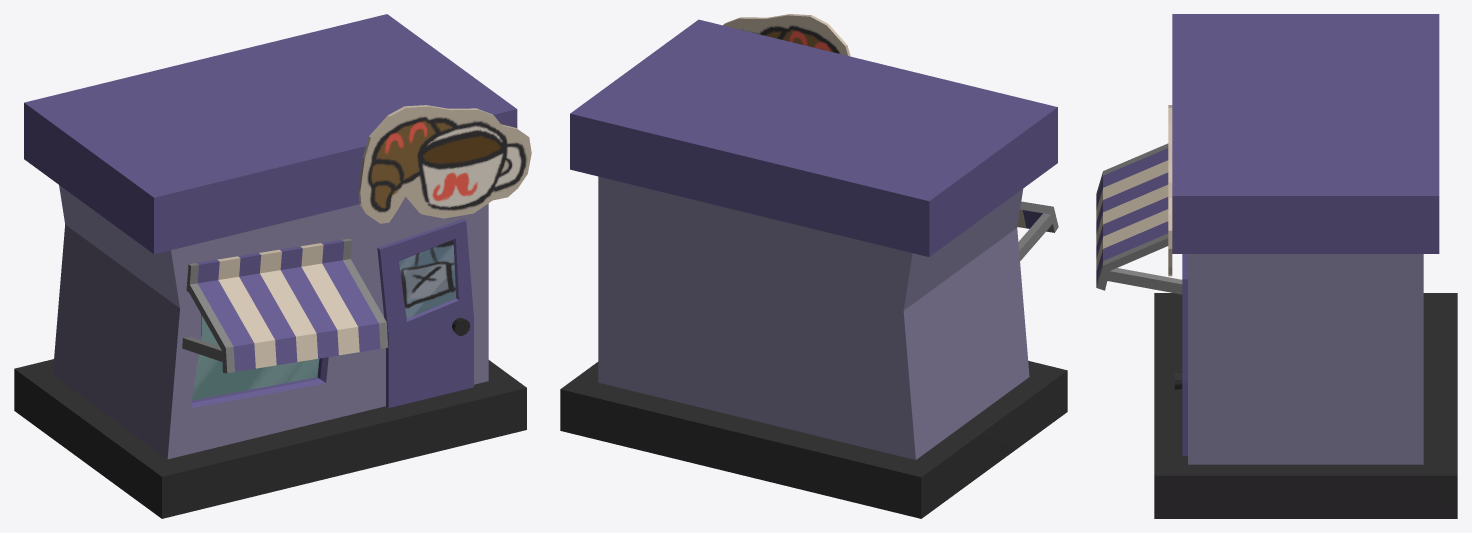
File: SM_Bakery.fbx
3 renders of one model, left to right at view 1: azimuth 30°, elevation 25°; view 2: azimuth 150°, elevation 25°; view 3: azimuth 270°, elevation 25°, orthographic. The views are drawn at different scales.
Visible parts, largest first — view 1: bakery.001, Cube; view 2: bakery.001, Cube; view 3: bakery.001, Cube.
Part boxes in pixels (x1,y1,x2,y2): bakery.001: (24, 14, 531, 459); Cube: (14, 359, 526, 518); bakery.001: (570, 14, 1058, 459); Cube: (560, 361, 1067, 518); bakery.001: (1096, 14, 1439, 464); Cube: (1154, 293, 1457, 518).
Size of the model in its own units: 378 by 331 by 306.
